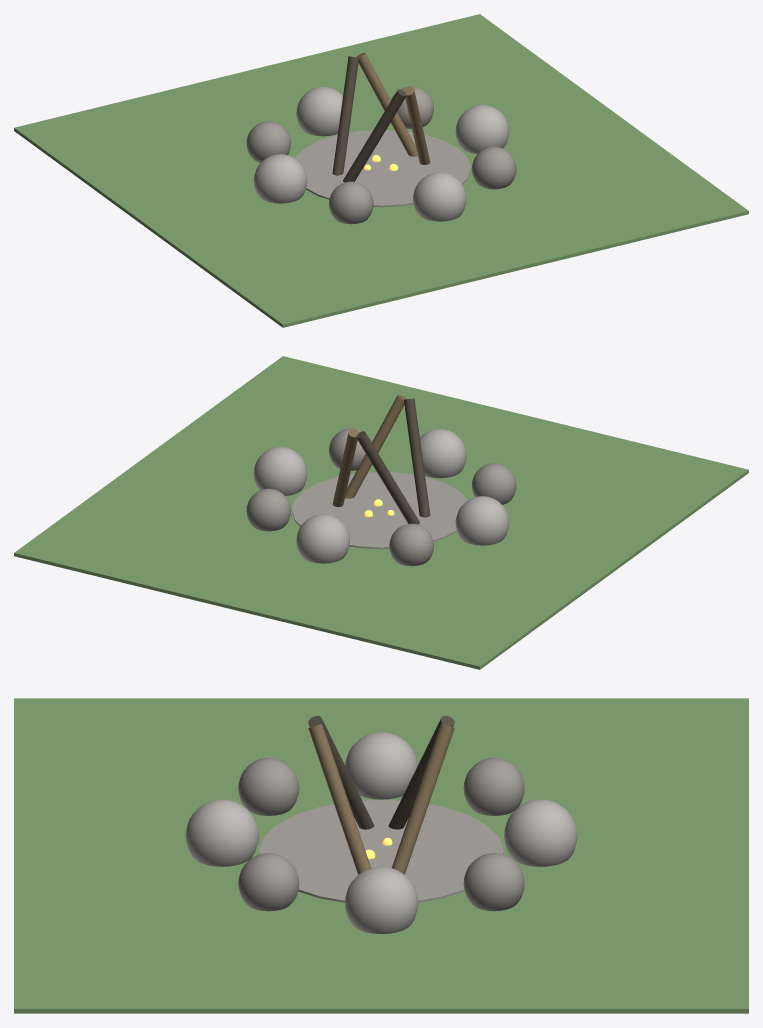
File: campfire_ring.glb
3 renders of one model, top to bottom at view 1: azimuth 30°, elevation 25°; view 2: azimuth 150°, elevation 25°; view 3: azimuth 270°, elevation 25°, orthographic. The views are drawn at different scales.
Visible parts, largest first — view 1: ground, ash_pit, stone_5, stone_3, stone_1, stone_7, stone_2, stone_4, stone_6, log_4, log_2, log_3 (+2 smaller); view 2: ground, ash_pit, stone_5, stone_7, stone_1, stone_3, stone_8, stone_6, stone_4, log_2, log_4, log_1 (+2 smaller); view 3: ground, ash_pit, stone_3, stone_7, stone_1, stone_5, stone_2, stone_8, stone_4, stone_6, log_1, log_3 (+2 smaller).
Part boxes in pixels (left/top/right/bottom): ground: left=14, top=14, right=748, bottom=327; ash_pit: left=295, top=130, right=471, bottom=207; stone_5: left=253, top=154, right=307, bottom=203; stone_3: left=413, top=172, right=466, bottom=221; stone_1: left=455, top=105, right=509, bottom=153; stone_7: left=296, top=87, right=342, bottom=136; stone_2: left=471, top=146, right=516, bottom=189; stone_4: left=329, top=181, right=373, bottom=224; stone_6: left=246, top=121, right=291, bottom=162; log_4: left=332, top=56, right=358, bottom=175; log_2: left=343, top=89, right=406, bottom=182; log_3: left=356, top=52, right=417, bottom=156; ground: left=14, top=356, right=748, bottom=669; ash_pit: left=291, top=472, right=467, bottom=549; stone_5: left=455, top=496, right=509, bottom=545; stone_7: left=296, top=514, right=349, bottom=563; stone_1: left=253, top=447, right=307, bottom=495; stone_3: left=420, top=429, right=466, bottom=478; stone_8: left=246, top=488, right=291, bottom=531; stone_6: left=389, top=523, right=433, bottom=566; stone_4: left=471, top=463, right=516, bottom=504; log_2: left=404, top=398, right=430, bottom=517; log_4: left=356, top=431, right=419, bottom=524; log_1: left=345, top=394, right=406, bottom=498; ground: left=14, top=698, right=748, bottom=1013; ash_pit: left=259, top=799, right=503, bottom=902; stone_3: left=185, top=799, right=258, bottom=866; stone_7: left=504, top=799, right=577, bottom=866; stone_1: left=344, top=866, right=418, bottom=933; stone_5: left=345, top=732, right=417, bottom=799; stone_2: left=238, top=853, right=299, bottom=911; stone_8: left=463, top=853, right=524, bottom=911; stone_4: left=238, top=757, right=299, bottom=815; stone_6: left=463, top=757, right=524, bottom=815; log_1: left=308, top=723, right=370, bottom=874; log_3: left=392, top=723, right=454, bottom=874.
Size of the model in its own units: 6 by 1.38 by 6.
